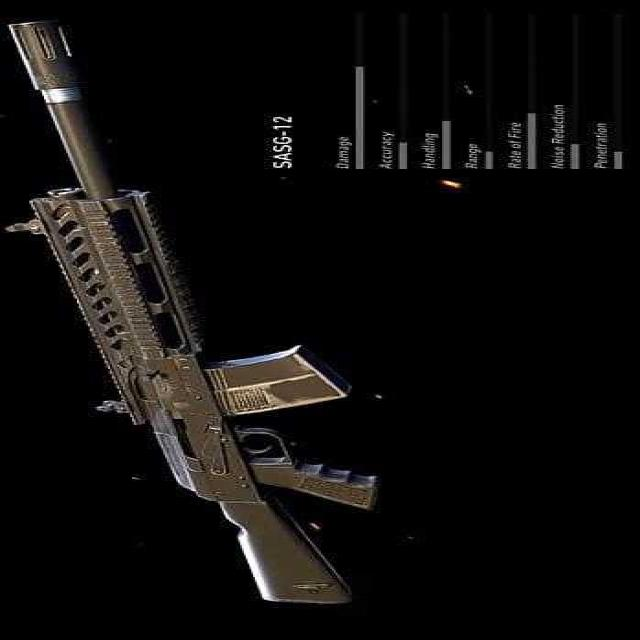heavyweapon: (7, 20, 394, 607)
